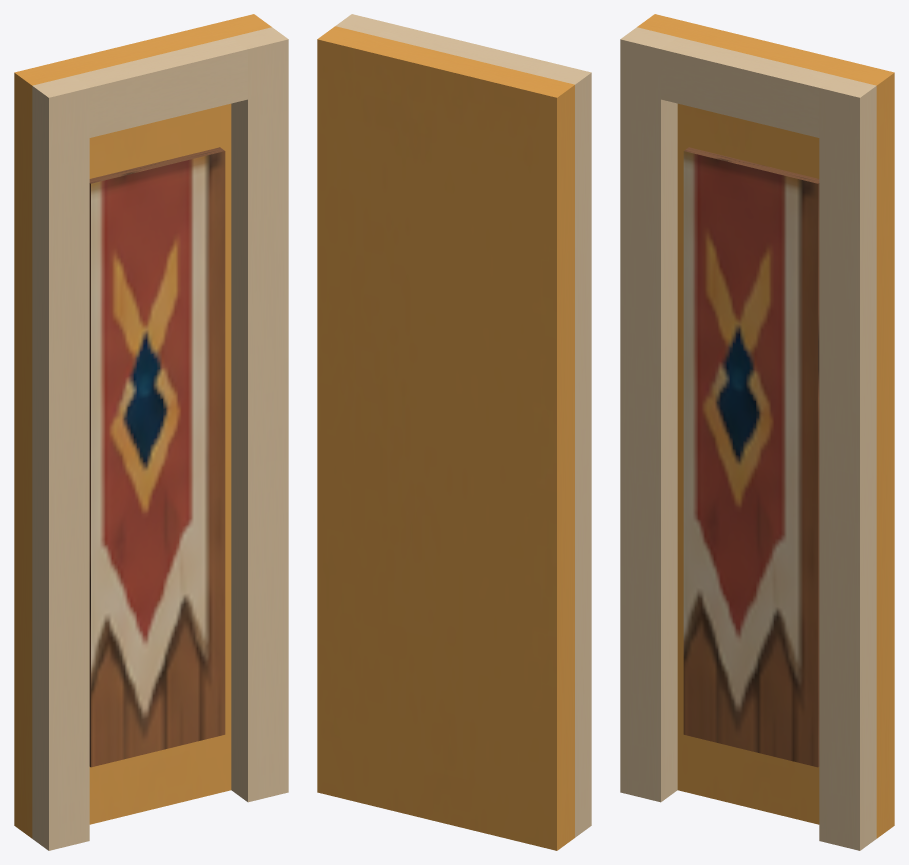
File: rc_wa_bannerrecess_2x6.glb
3 views of the same model, side by side, from view 1: azimuth 30°, elevation 25°; view 2: azimuth 150°, elevation 25°; view 3: azimuth 330°, elevation 25° (orthographic).
Parts seen in each view (by area): view 1: SM_RC_WA_BannerRecess_2x6; view 2: SM_RC_WA_BannerRecess_2x6; view 3: SM_RC_WA_BannerRecess_2x6.
Part boxes in pixels (bbox=[...]): SM_RC_WA_BannerRecess_2x6: bbox=[14, 14, 288, 850]; SM_RC_WA_BannerRecess_2x6: bbox=[317, 14, 591, 850]; SM_RC_WA_BannerRecess_2x6: bbox=[620, 14, 894, 850].
Bounding box in the file's own units: 2 × 6 × 0.5.
1 material, 1 textured.
